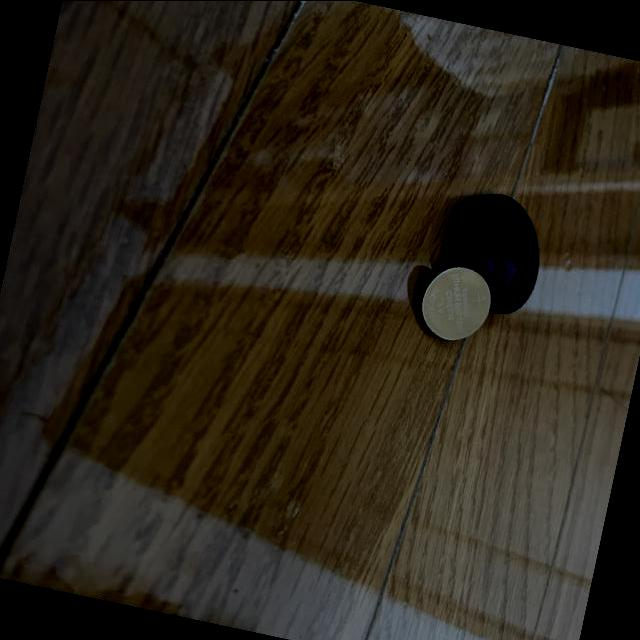COIN: (410, 259, 497, 348)
